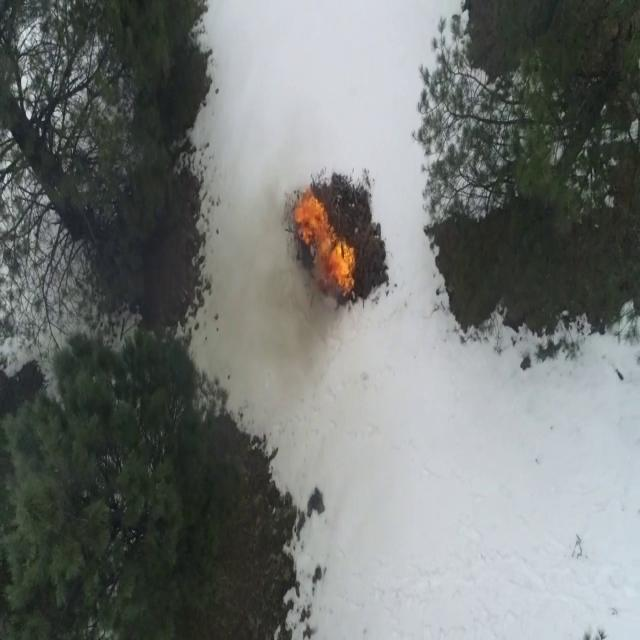fire: (297, 192, 358, 290)
